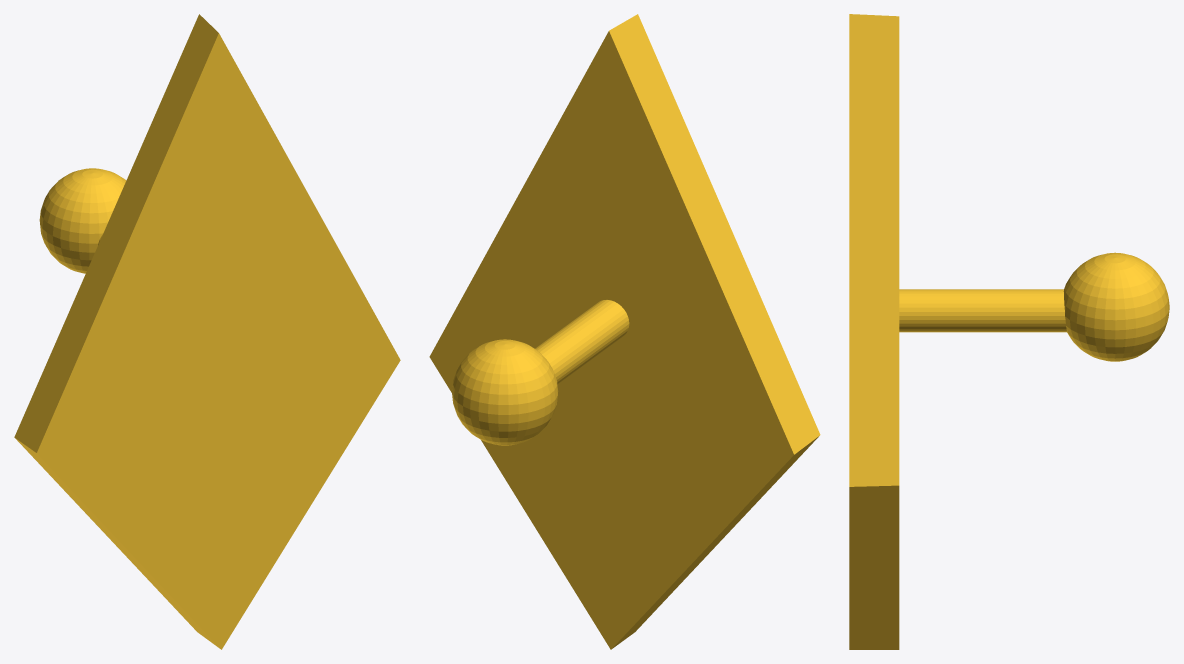
Rendered from TopPiece.fbx.
3 renders of one model, left to right at view 1: azimuth 30°, elevation 25°; view 2: azimuth 150°, elevation 25°; view 3: azimuth 270°, elevation 25°, orthographic. The views are drawn at different scales.
Visible parts, largest first — view 1: TopFlatPiece, BallTop; view 2: TopFlatPiece, BallTop, CylinderTop; view 3: TopFlatPiece, BallTop, CylinderTop.
Part boxes in pixels (x1,y1,x2,y2): TopFlatPiece: (14, 14, 400, 649); BallTop: (39, 168, 126, 273); TopFlatPiece: (429, 14, 820, 649); BallTop: (452, 339, 558, 445); CylinderTop: (535, 300, 629, 384); TopFlatPiece: (849, 14, 899, 649); BallTop: (1063, 252, 1169, 361); CylinderTop: (899, 289, 1066, 332).
Size of the model in its own units: 31.29 by 50.46 by 23.1.
